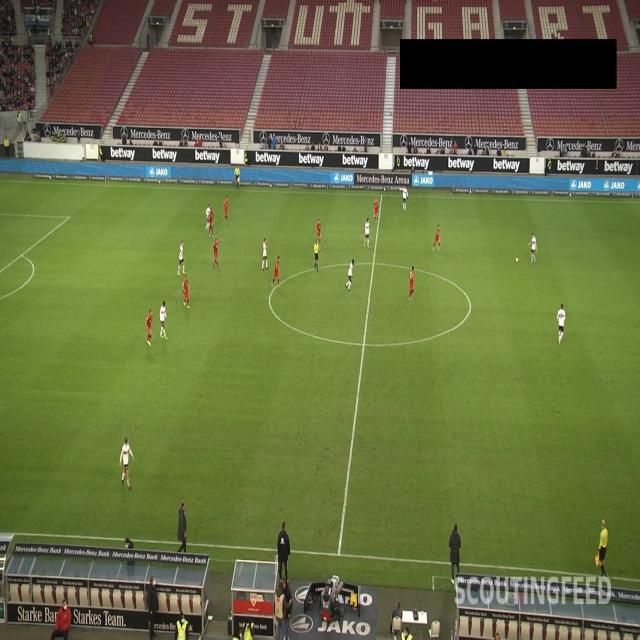ball: (515, 256, 519, 264)
